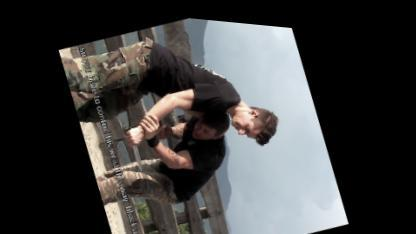knife: (120, 118, 152, 172)
